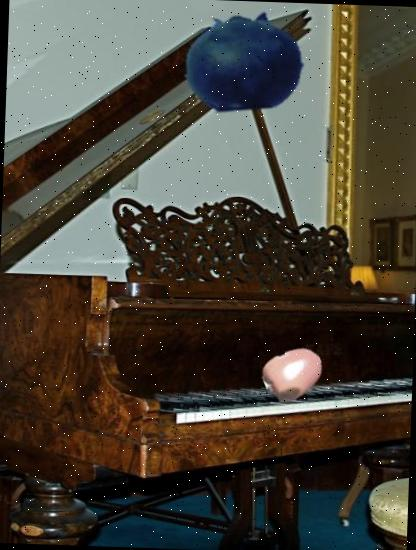Huckleberry: (181, 1, 306, 125)
Kaki: (262, 343, 326, 406)
